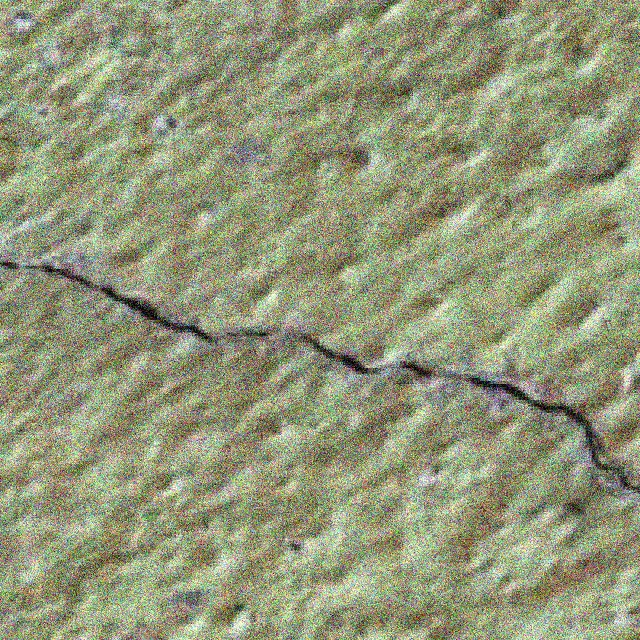SurfaceCrack: (22, 224, 640, 538)
